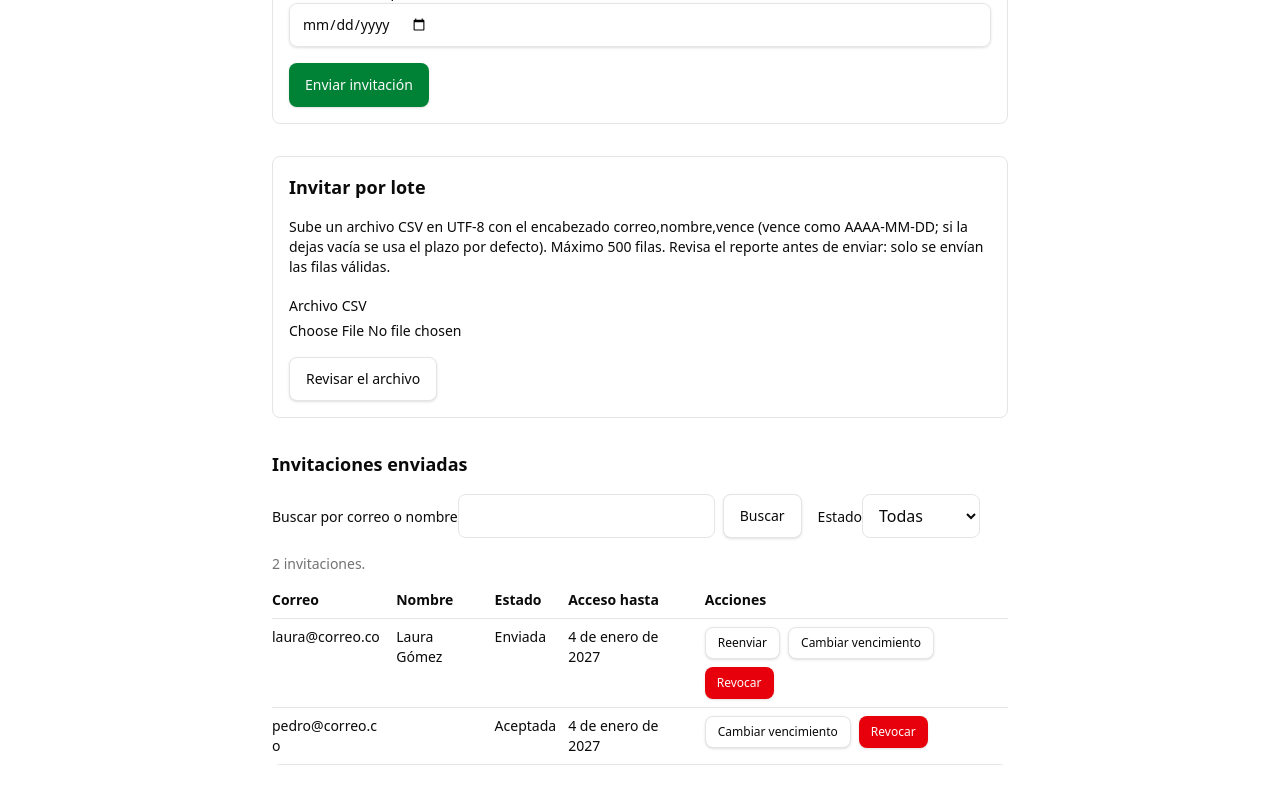
Test: listado de invitaciones › revocar pide confirmación y luego revoca
(page scrolled)
Click the button "Revocar" in the row of "pedro@correo.co": coordinates (893, 732) top-left (859, 716), bottom-right (928, 748)
(page scrolled)
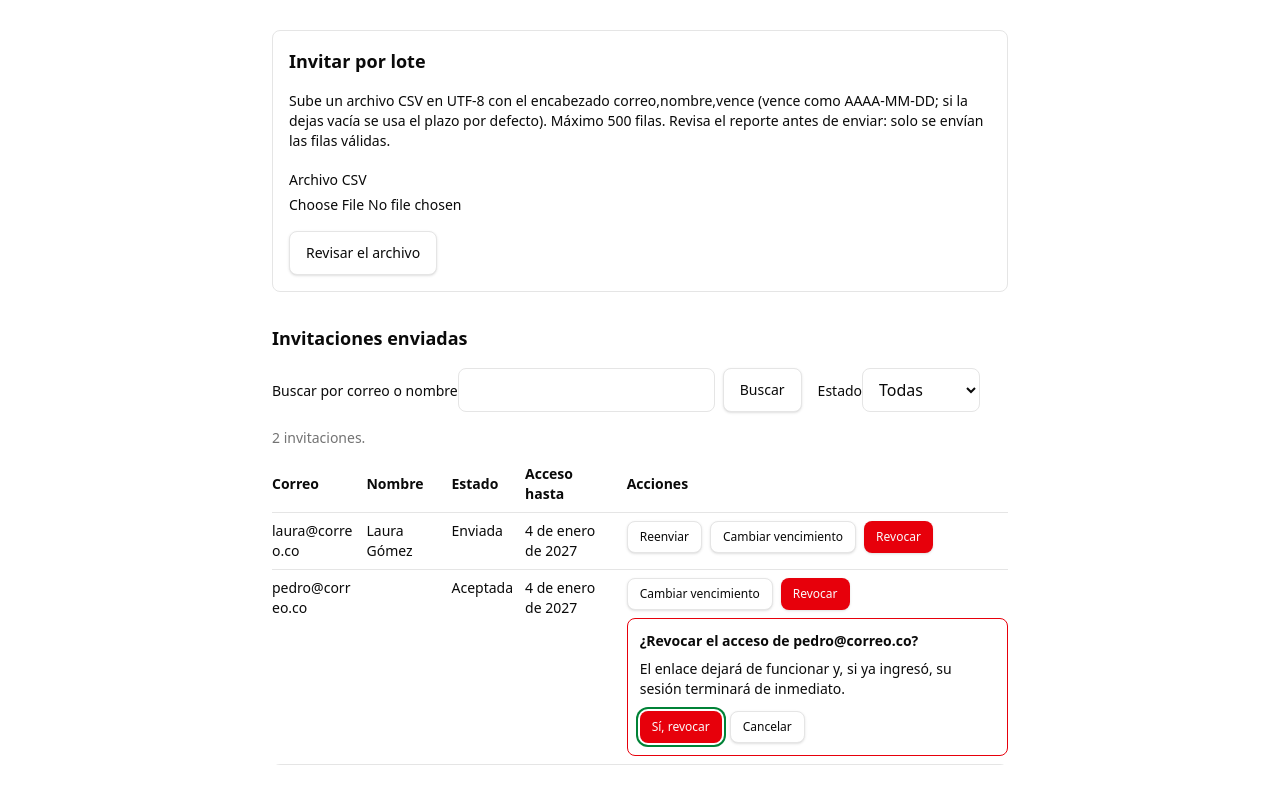
Result: the dialog "Revocar el acceso" shows "pedro@correo.co" at top-left (640, 631), bottom-right (918, 650)
Click the button "Sí, revocar": coordinates (681, 727) top-left (640, 711), bottom-right (722, 743)
(page scrolled)
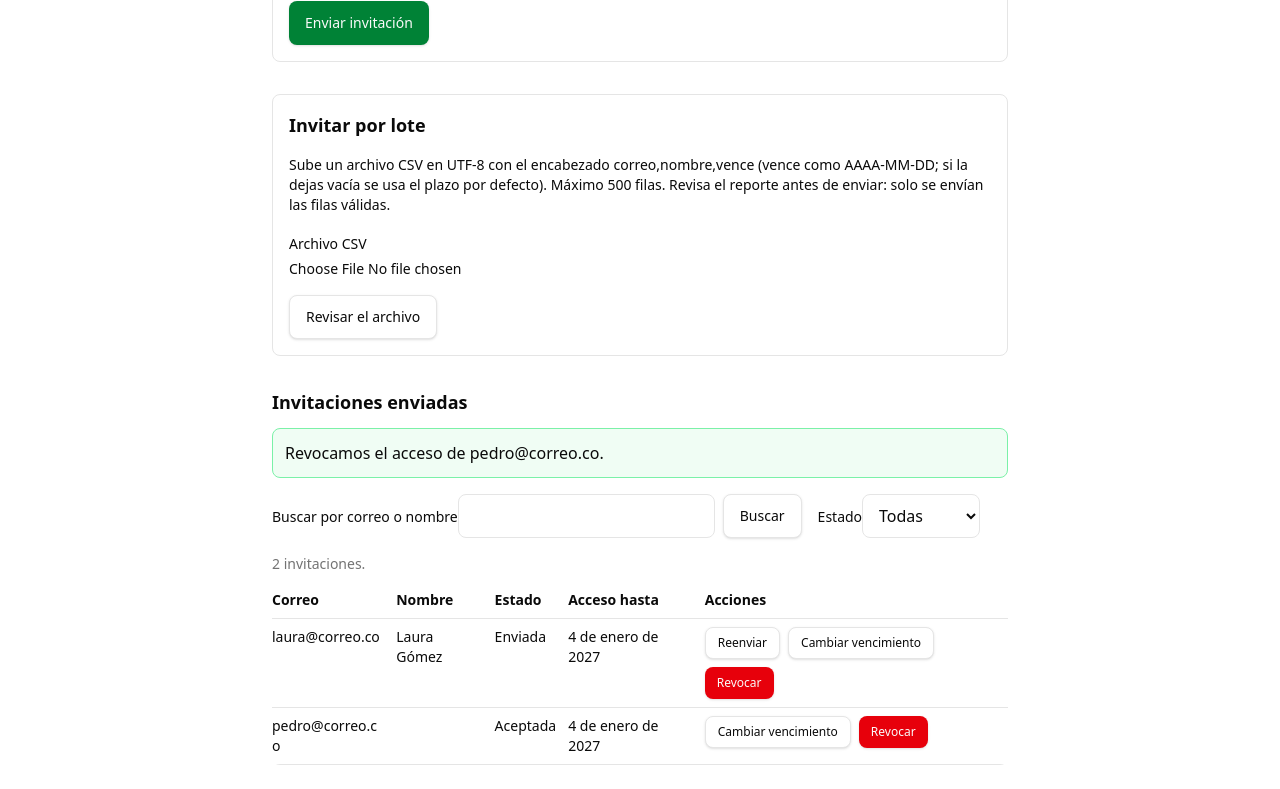
Result: the text "Revocamos el acceso de pedro@correo.co." is shown at top-left (272, 428), bottom-right (1008, 478)
